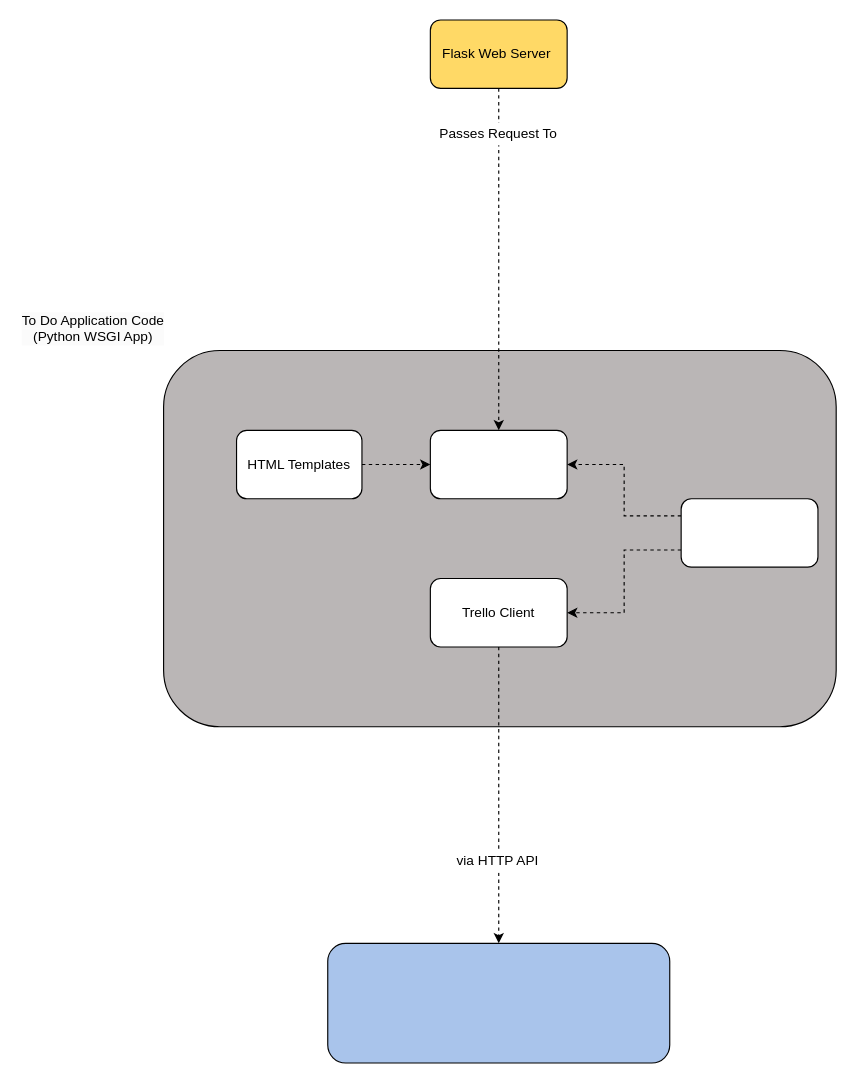
This 856x1083 diagram has some shape labels left out. Here are the shapes that lost their labels. From the top down, the centre of each, then its label:
At point 498,464: "Webserver Routes (app.py)".
At point 749,532: "Data Classes (Item View Model)".
At point 498,1002: "Trello API".
